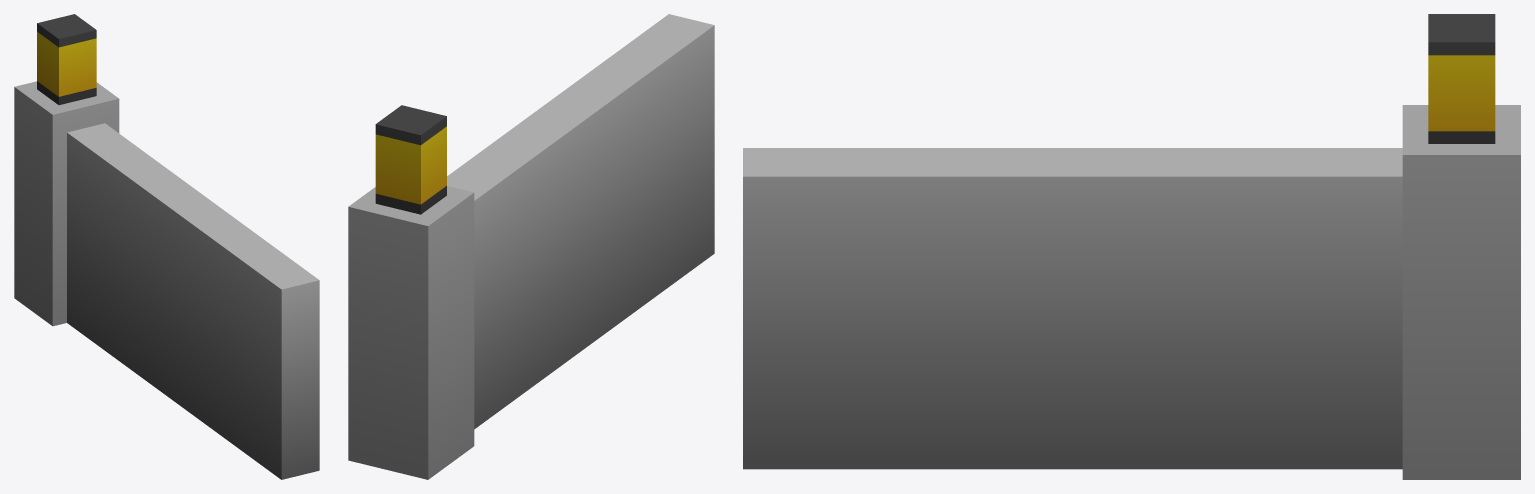
The model's file is fenche stone.fbx.
3 renders of one model, left to right at view 1: azimuth 30°, elevation 25°; view 2: azimuth 150°, elevation 25°; view 3: azimuth 270°, elevation 25°, orthographic. The views are drawn at different scales.
Parts seen in each view (by area): view 1: fence_stone; view 2: fence_stone; view 3: fence_stone.
Boxes of the visible parts, box(x1,y1,x2,y2) form: fence_stone: box(14, 14, 319, 479); fence_stone: box(348, 14, 714, 479); fence_stone: box(743, 14, 1520, 479).
Size of the model in its own units: 63.96 by 255 by 421.
1 material, 1 textured.
